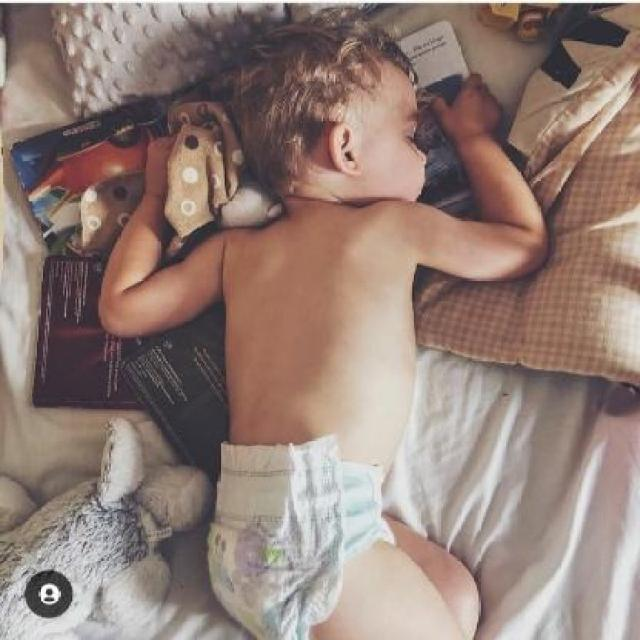baby: (97, 29, 548, 638)
